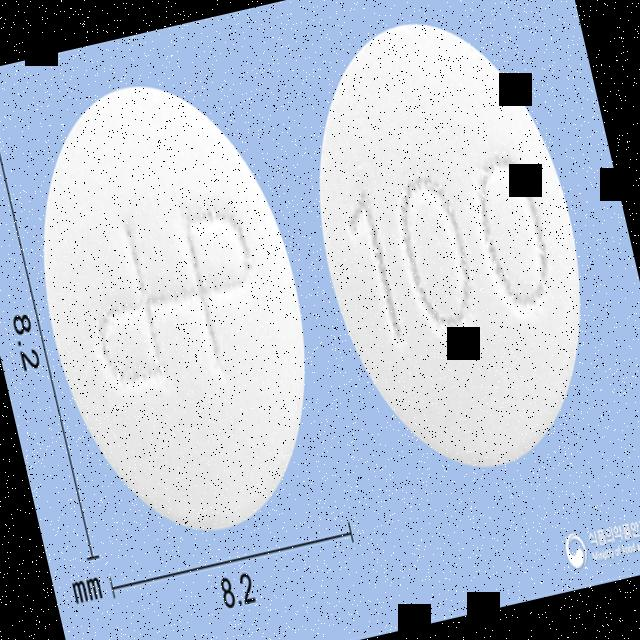Carbastar: (0, 56, 350, 565)
